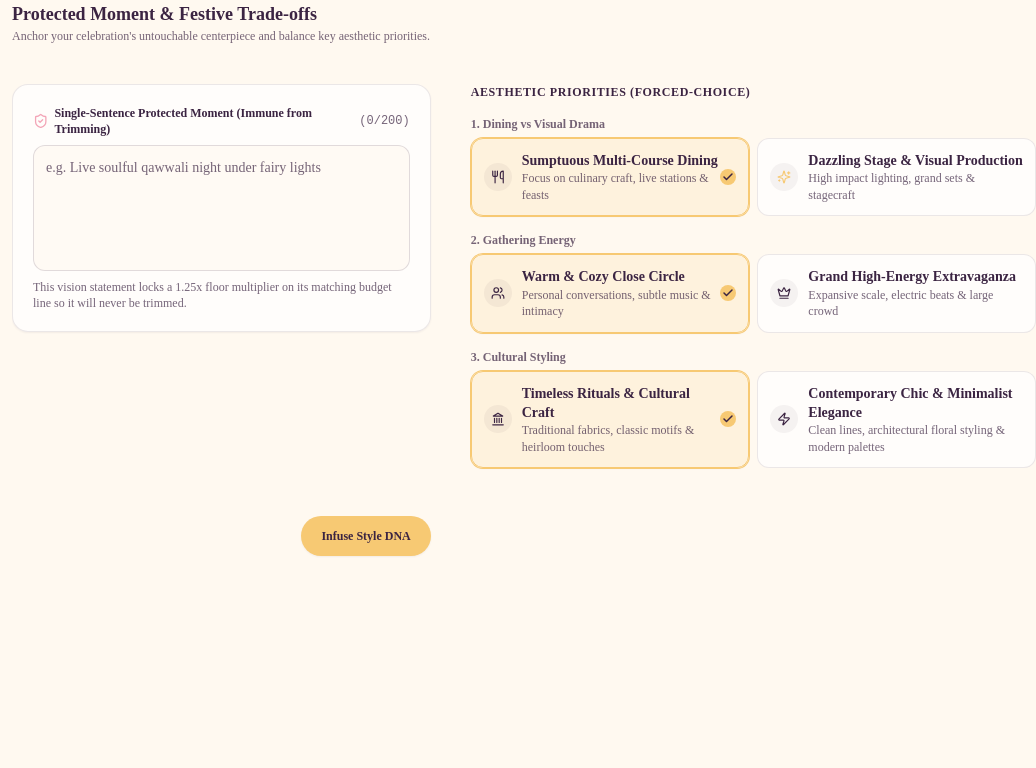
Test: Vibe Intake Components (VIBE-01, VIBE-02, D-01, D-03, D-04) › StepVibeTradeoffs Component › captures single-sentence Protected Moment with 200 char limit and live counter
Expected: the text "Single-Sentence Protected Moment (Immune from Trimming)" is shown, [54,106,312,136]
Expected: the text "(0/200)" is shown, [359,113,410,129]
Step 1. Type "Soulful sufi music under banyan tree with warm lights" into the text box with placeholder "e.g. Live soulful qawwali night under fairy lights" → (221, 208), box [33,145,410,271]
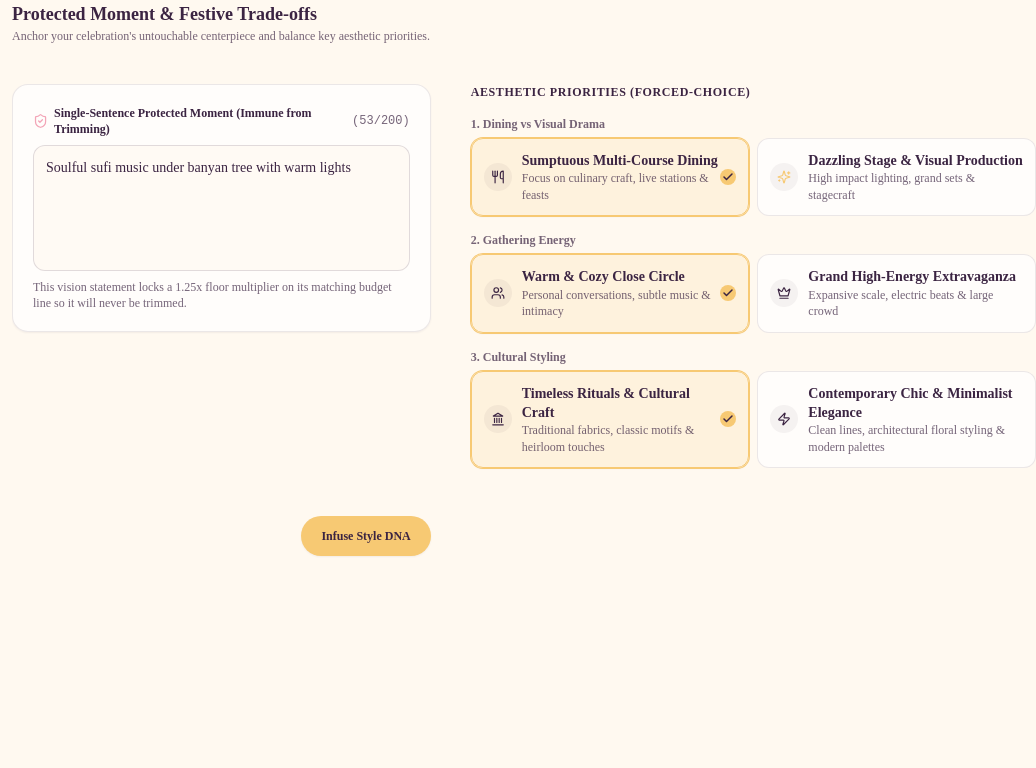
Expected: the text "(53/200)" is shown, [352,113,410,129]
